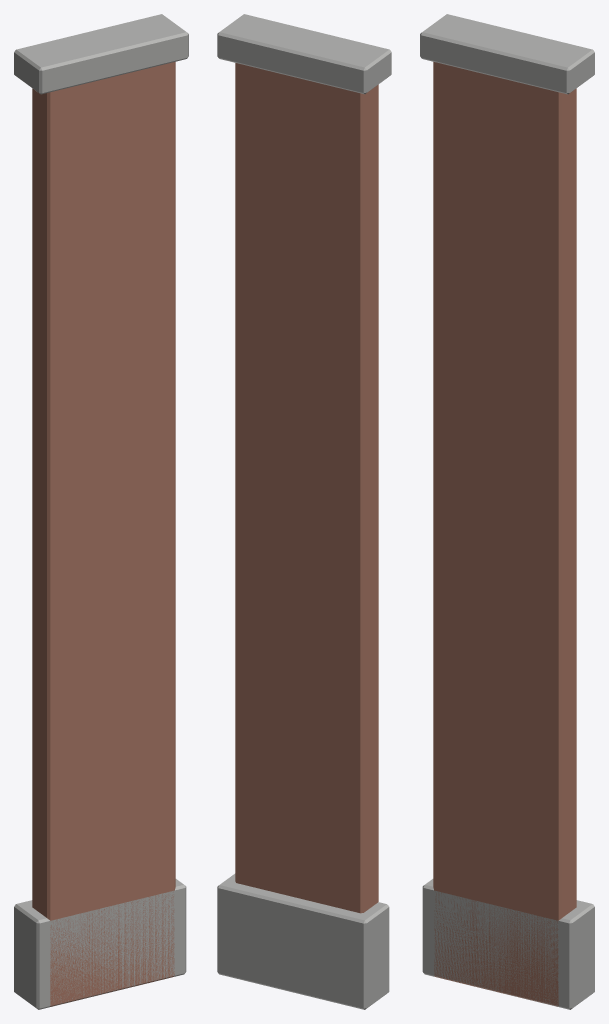
The model's file is mk_pier_brick.glb.
3 renders of one model, left to right at view 1: azimuth 30°, elevation 25°; view 2: azimuth 150°, elevation 25°; view 3: azimuth 330°, elevation 25°, orthographic.
Parts seen in each view (by area): view 1: mk_pier_brick_mesh; view 2: mk_pier_brick_mesh; view 3: mk_pier_brick_mesh.
Part boxes in pixels (x1,y1,x2,y2): mk_pier_brick_mesh: (14, 14, 188, 1009); mk_pier_brick_mesh: (217, 14, 391, 1009); mk_pier_brick_mesh: (420, 14, 594, 1009).
Size of the model in its own units: 0.7 by 4.21 by 0.22.
